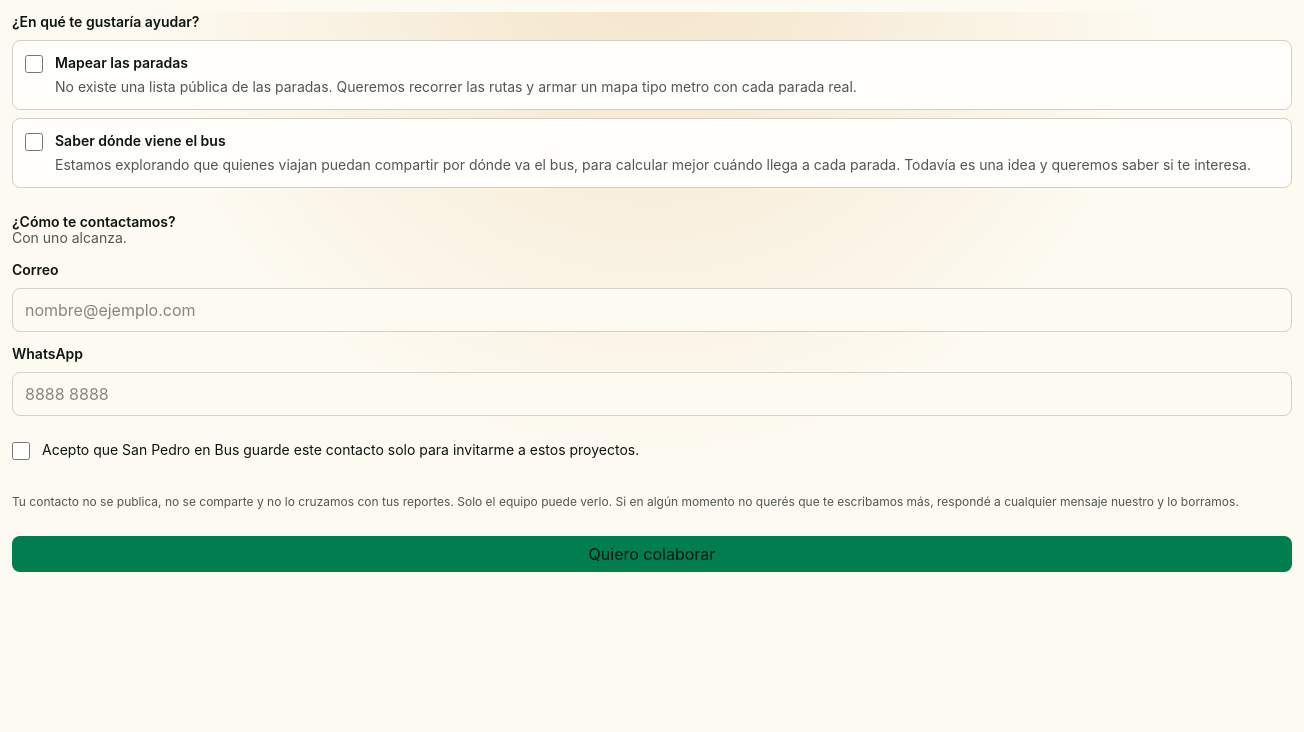
Test: CollaborateForm › flags an invalid WhatsApp number
Type "123" into the field labelled "WhatsApp". click: (652, 394)
box: [12, 372, 1292, 416]
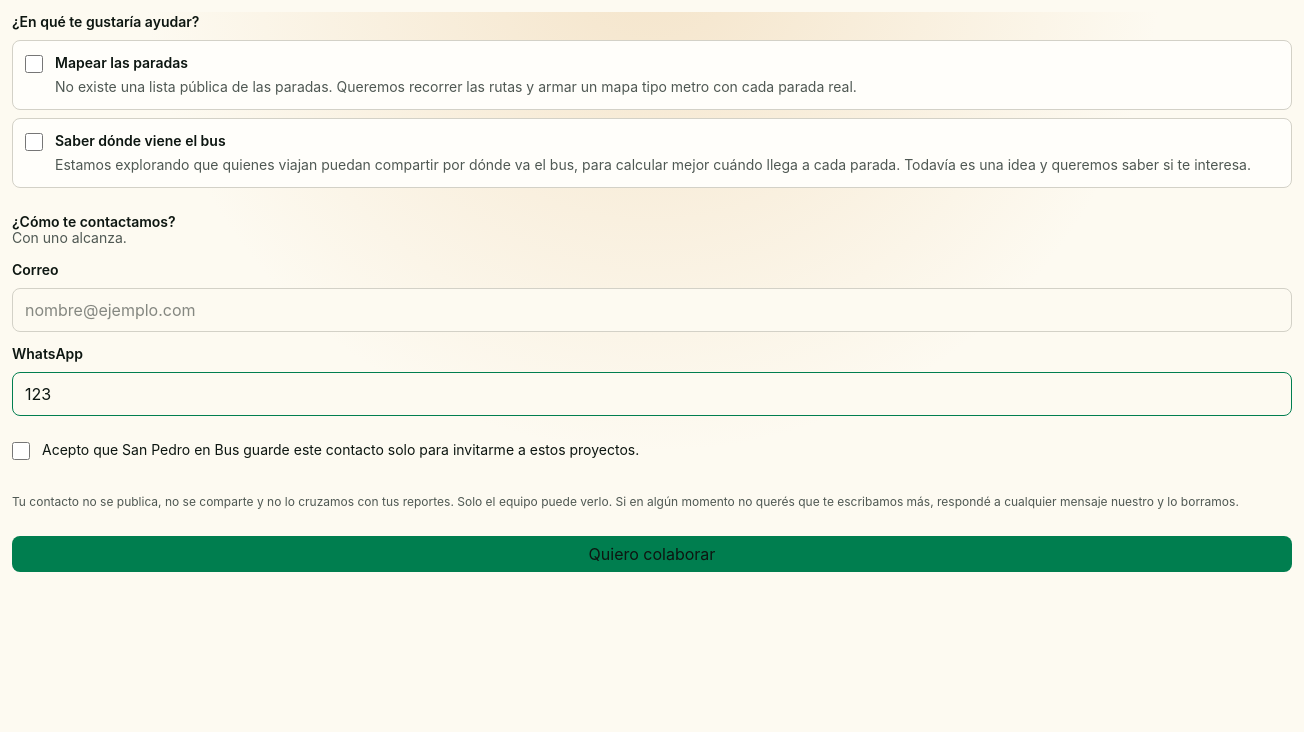
Click the button "Quiero colaborar". click: (652, 554)
box: [12, 536, 1292, 572]
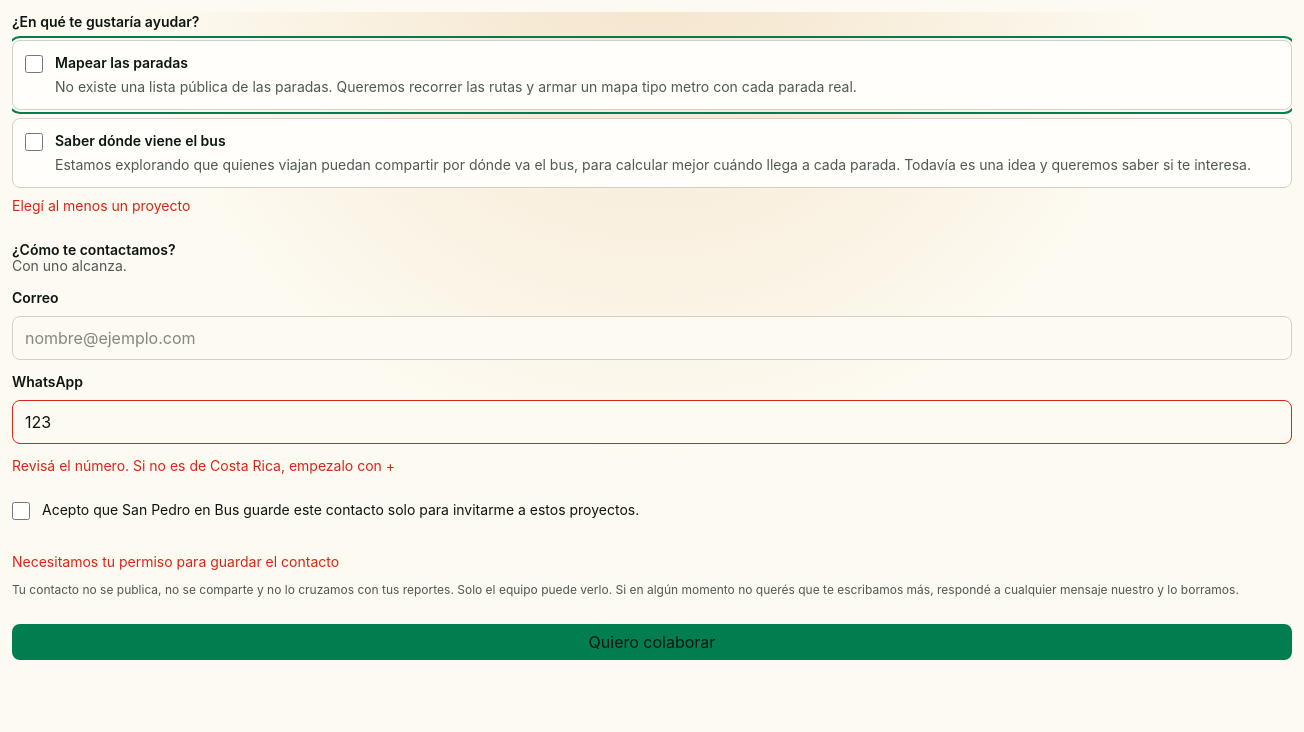
Now the text "Revisá el número. Si no es de Costa Rica, empezalo con +" is shown, box [12, 457, 395, 474]
